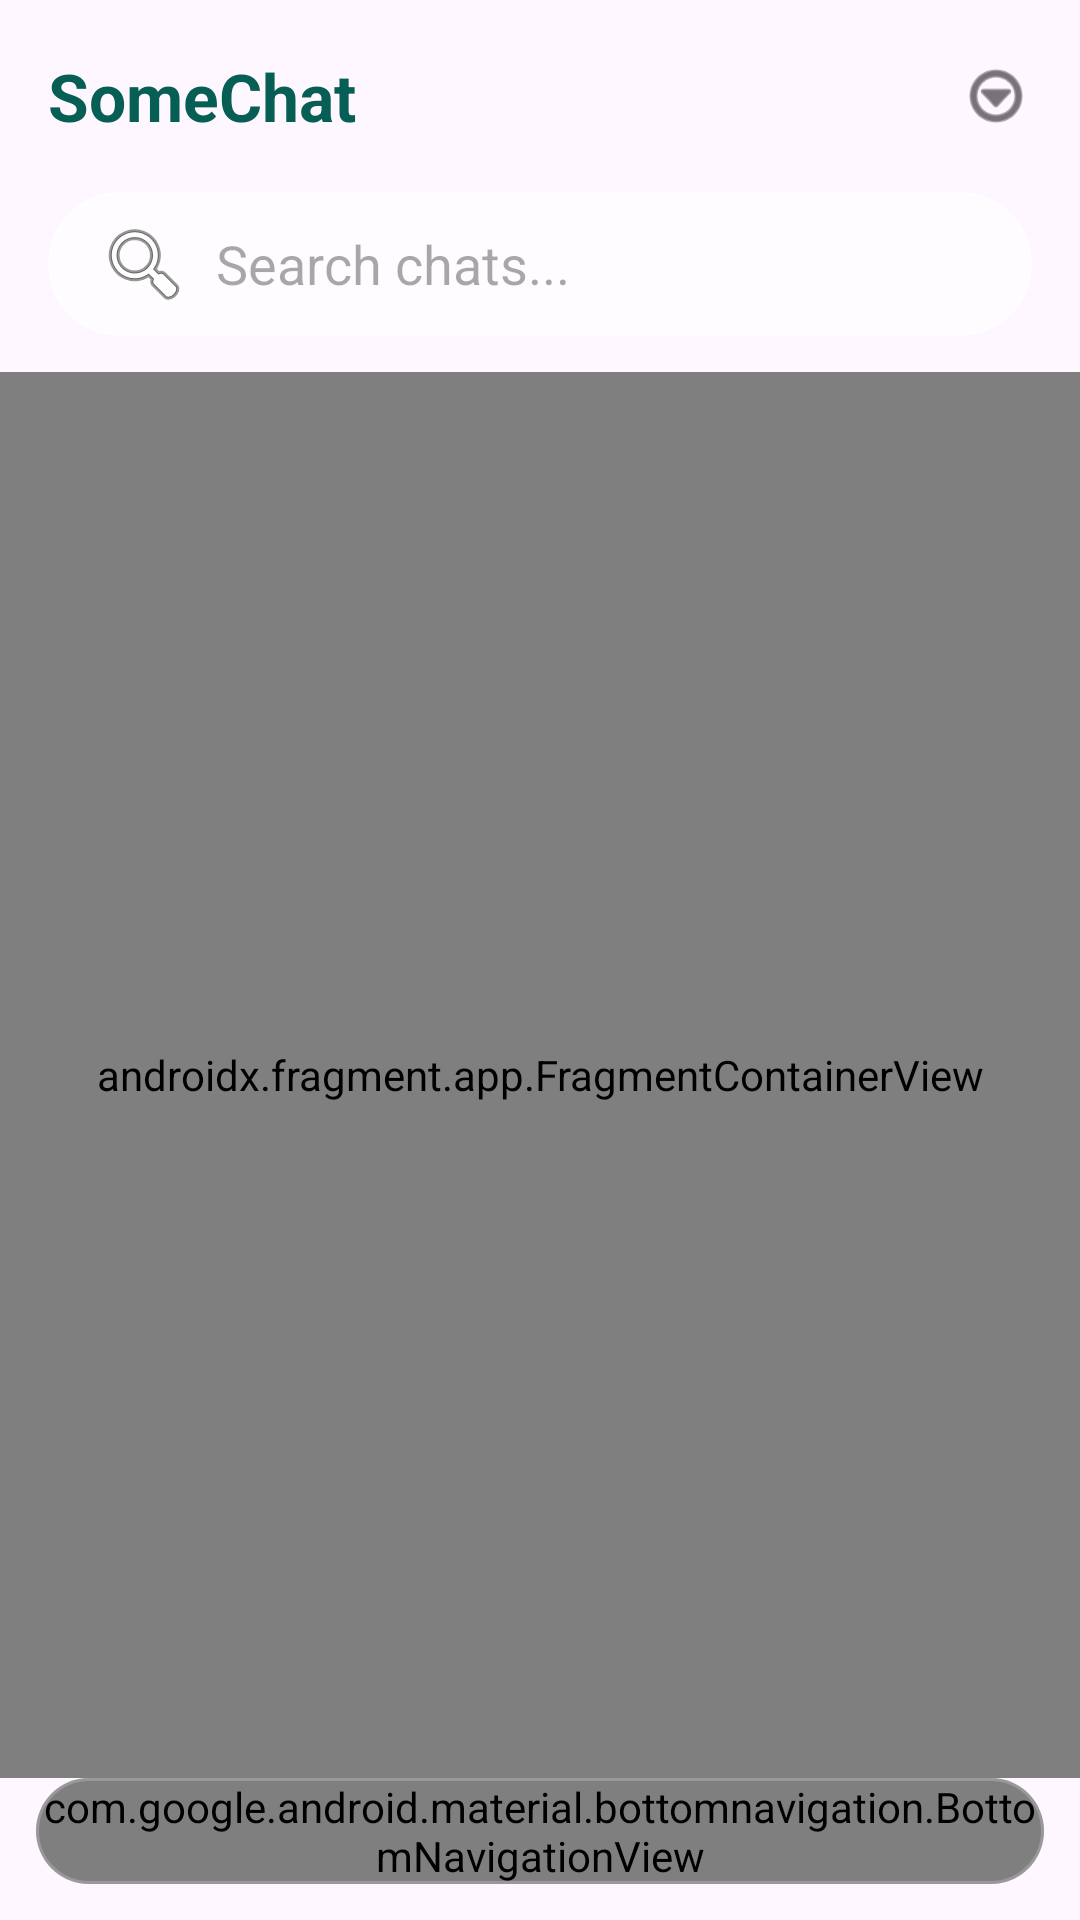

Point at icon controls on the screen. Image size 1080px x 1920px, points as [x,y].
More options: [996,96]
